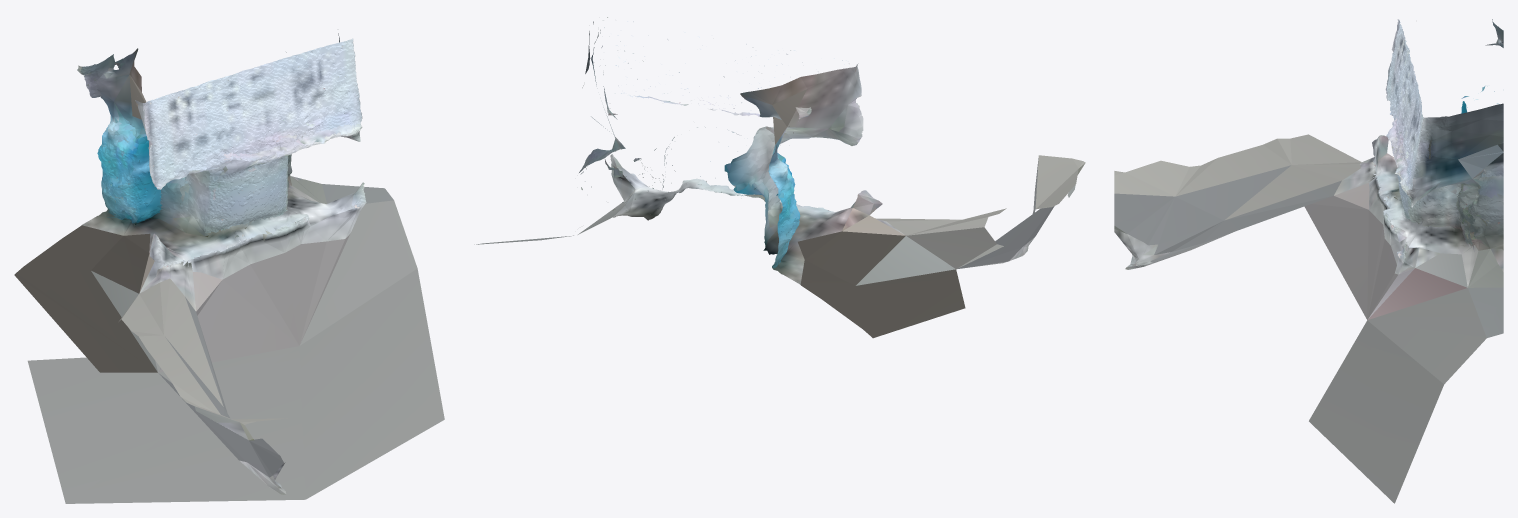
The picture shows the model from 3 angles, left to right: view 1: azimuth 30°, elevation 25°; view 2: azimuth 150°, elevation 25°; view 3: azimuth 270°, elevation 25°; orthographic projection. The views are drawn at different scales.
Bounding box in the file's own units: 0.983 × 0.983 × 0.983.
Materials: 1 (1 with a texture image).
